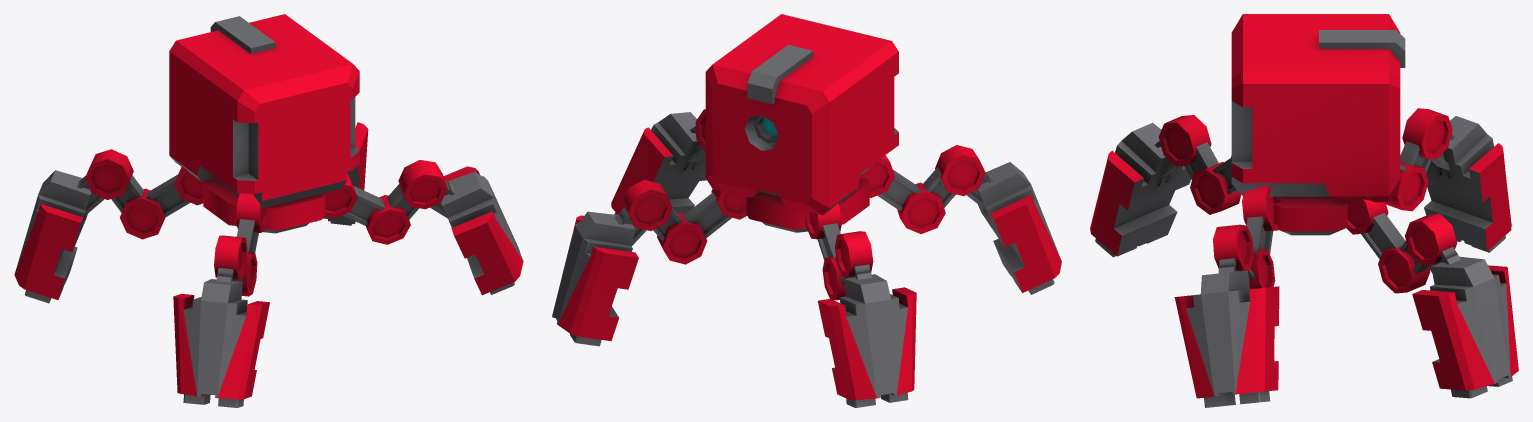
File: Monster1_Move28.obj
3 views of the same model, side by side, from view 1: azimuth 30°, elevation 25°; view 2: azimuth 150°, elevation 25°; view 3: azimuth 270°, elevation 25° (orthographic). The views are drawn at different scales.
Visible parts, largest first — view 1: Box006, Object021, Object025, Object017, Object028, Object020, Object027, Object019, Object018, Object026, Object024, Object022 (+2 smaller); view 2: Box006, Object025, Object013, Object021, Object017, Object016, Object023, Object024, Object015, Object014, Object022, Object028 (+3 smaller); view 3: Box006, Object017, Object013, Object021, Object025, Object016, Object023, Object014, Object024, Object028, Object027, Object015 (+3 smaller).
Part boxes in pixels (x1,y1,x2,y2): Box006: [169, 14, 359, 233]; Object021: [173, 279, 269, 407]; Object025: [14, 170, 91, 303]; Object017: [441, 166, 523, 295]; Object028: [77, 149, 133, 215]; Object020: [398, 160, 455, 218]; Object027: [111, 175, 165, 239]; Object019: [366, 184, 418, 244]; Object018: [320, 173, 385, 225]; Object026: [146, 166, 215, 217]; Object024: [214, 235, 247, 282]; Object022: [236, 193, 265, 254]; Box006: [705, 14, 898, 232]; Object025: [817, 274, 916, 407]; Object013: [552, 211, 638, 346]; Object021: [977, 162, 1061, 294]; Object017: [611, 112, 706, 214]; Object016: [615, 179, 672, 245]; Object023: [897, 167, 955, 233]; Object024: [935, 145, 993, 209]; Object015: [653, 208, 707, 264]; Object014: [683, 189, 746, 238]; Object022: [859, 155, 920, 211]; Object028: [835, 231, 873, 279]; Box006: [1231, 14, 1405, 235]; Object017: [1174, 270, 1279, 407]; Object013: [1412, 256, 1518, 398]; Object021: [1090, 122, 1191, 257]; Object025: [1424, 116, 1511, 252]; Object016: [1405, 213, 1460, 272]; Object023: [1184, 142, 1240, 214]; Object014: [1344, 199, 1405, 259]; Object024: [1154, 115, 1211, 177]; Object028: [1402, 108, 1454, 170]; Object027: [1385, 141, 1431, 211]; Object015: [1378, 241, 1430, 293].
Size of the model in its own units: 170 by 109 by 150.
